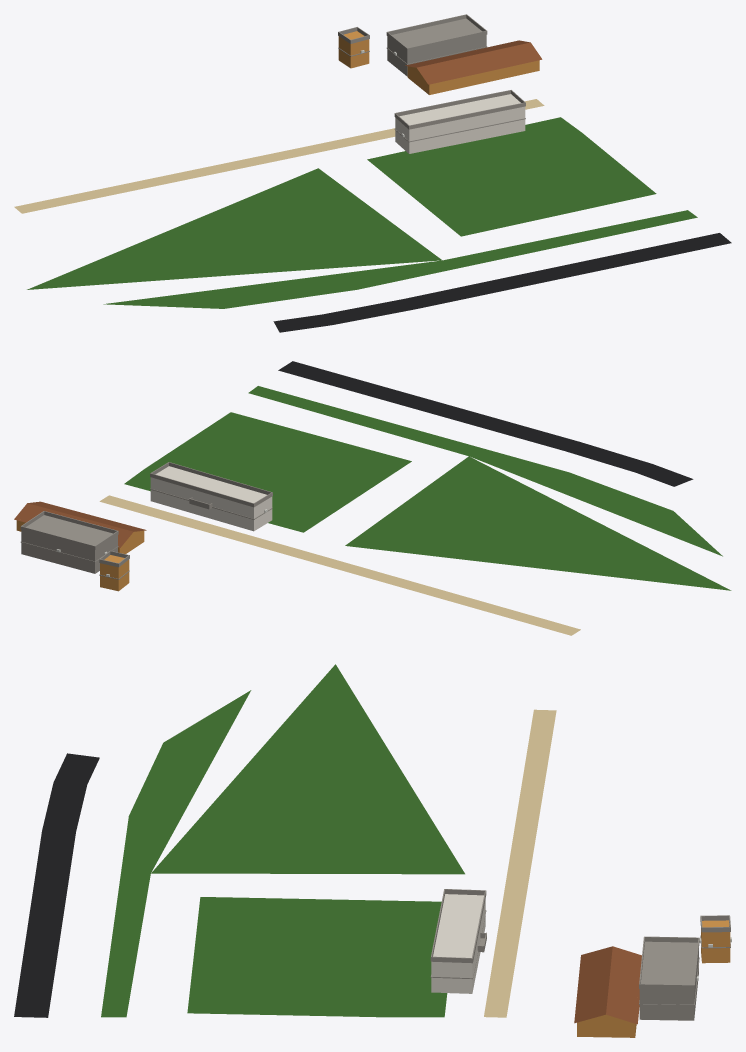
Rendered from zone_t7_-2.glb.
3 renders of one model, top to bottom at view 1: azimuth 30°, elevation 25°; view 2: azimuth 150°, elevation 25°; view 3: azimuth 270°, elevation 25°, orthographic. The views are drawn at different scales.
Parts seen in each view (by area): view 1: zone_herbe_t7_-2, route_unclassified_bitume_t7_-2, bld_peinture_blanc_t7_-2-col, route_service_terre_t7_-2, toit_tole_t7_-2, bld_beton_t7_-2-col, parapet_t7_-2, bld_peinture_ocre_t7_-2-col; view 2: zone_herbe_t7_-2, route_unclassified_bitume_t7_-2, route_service_terre_t7_-2, bld_peinture_blanc_t7_-2-col, bld_beton_t7_-2-col, parapet_t7_-2, toit_tole_t7_-2, bld_peinture_ocre_t7_-2-col; view 3: zone_herbe_t7_-2, route_unclassified_bitume_t7_-2, route_service_terre_t7_-2, toit_tole_t7_-2, bld_beton_t7_-2-col, bld_peinture_blanc_t7_-2-col, parapet_t7_-2, bld_peinture_ocre_t7_-2-col.
Boxes of the visible parts, x1,y1,x2,y2 form: zone_herbe_t7_-2: (27, 117, 697, 308); route_unclassified_bitume_t7_-2: (273, 233, 731, 332); bld_peinture_blanc_t7_-2-col: (395, 94, 525, 153); route_service_terre_t7_-2: (14, 99, 544, 213); toit_tole_t7_-2: (405, 40, 542, 84); bld_beton_t7_-2-col: (387, 18, 486, 76); parapet_t7_-2: (338, 14, 525, 129); bld_peinture_ocre_t7_-2-col: (338, 31, 539, 94); zone_herbe_t7_-2: (124, 386, 731, 590); route_unclassified_bitume_t7_-2: (278, 361, 693, 486); route_service_terre_t7_-2: (99, 495, 580, 635); bld_peinture_blanc_t7_-2-col: (150, 466, 272, 531); bld_beton_t7_-2-col: (21, 515, 117, 573); parapet_t7_-2: (20, 462, 272, 567); toit_tole_t7_-2: (14, 501, 146, 547); bld_peinture_ocre_t7_-2-col: (16, 520, 144, 591); zone_herbe_t7_-2: (101, 664, 464, 1017); route_unclassified_bitume_t7_-2: (14, 753, 99, 1017); route_service_terre_t7_-2: (484, 709, 556, 1017); toit_tole_t7_-2: (574, 946, 641, 1024); bld_beton_t7_-2-col: (639, 941, 698, 1020); bld_peinture_blanc_t7_-2-col: (431, 894, 485, 993); parapet_t7_-2: (430, 889, 730, 989); bld_peinture_ocre_t7_-2-col: (577, 920, 730, 1037).
Size of the model in its own units: 156 by 6.9 by 126.
